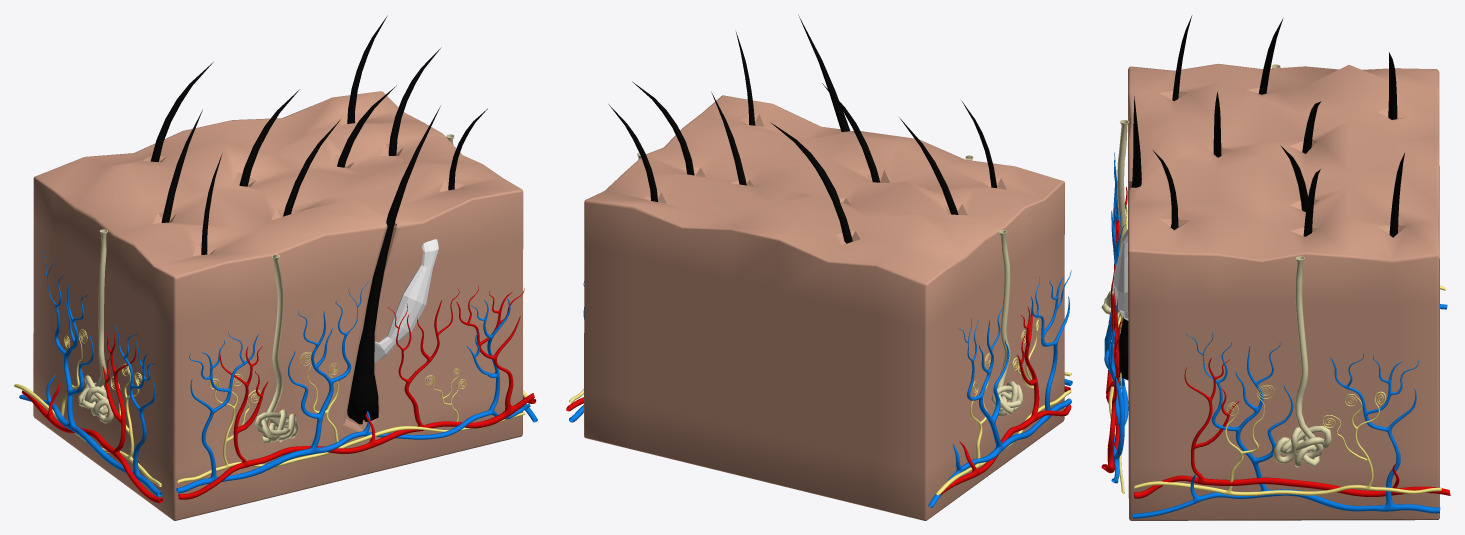
Rendered from skin_with_base_color.glb.
The picture shows the model from 3 angles, left to right: view 1: azimuth 30°, elevation 25°; view 2: azimuth 150°, elevation 25°; view 3: azimuth 270°, elevation 25°; orthographic projection. The views are drawn at different scales.
Visible parts, largest first — view 1: Skin, Hairs, Blue, Red, Tube, yellow, muscle; view 2: Skin, Hairs, Blue, Red, Tube, yellow; view 3: Skin, Blue, Hairs, Red, Tube, yellow, muscle.
Part boxes in pixels (x1,y1,x2,y2): Skin: [33, 91, 523, 520]; Hairs: [150, 15, 487, 424]; Blue: [19, 251, 537, 496]; Red: [22, 286, 536, 503]; Tube: [78, 134, 454, 443]; yellow: [14, 329, 527, 486]; muscle: [374, 239, 438, 363]; Skin: [584, 95, 1064, 520]; Hairs: [608, 15, 996, 243]; Blue: [569, 270, 1072, 507]; Red: [566, 307, 1071, 495]; Tube: [637, 153, 1022, 416]; yellow: [569, 319, 1071, 495]; Skin: [1128, 63, 1439, 520]; Blue: [1104, 152, 1447, 518]; Hairs: [1118, 15, 1404, 380]; Red: [1101, 186, 1450, 498]; Tube: [1101, 64, 1331, 467]; yellow: [1108, 207, 1445, 496]; muscle: [1114, 229, 1128, 320].
Size of the model in its own units: 4.45 by 3.76 by 3.09.
